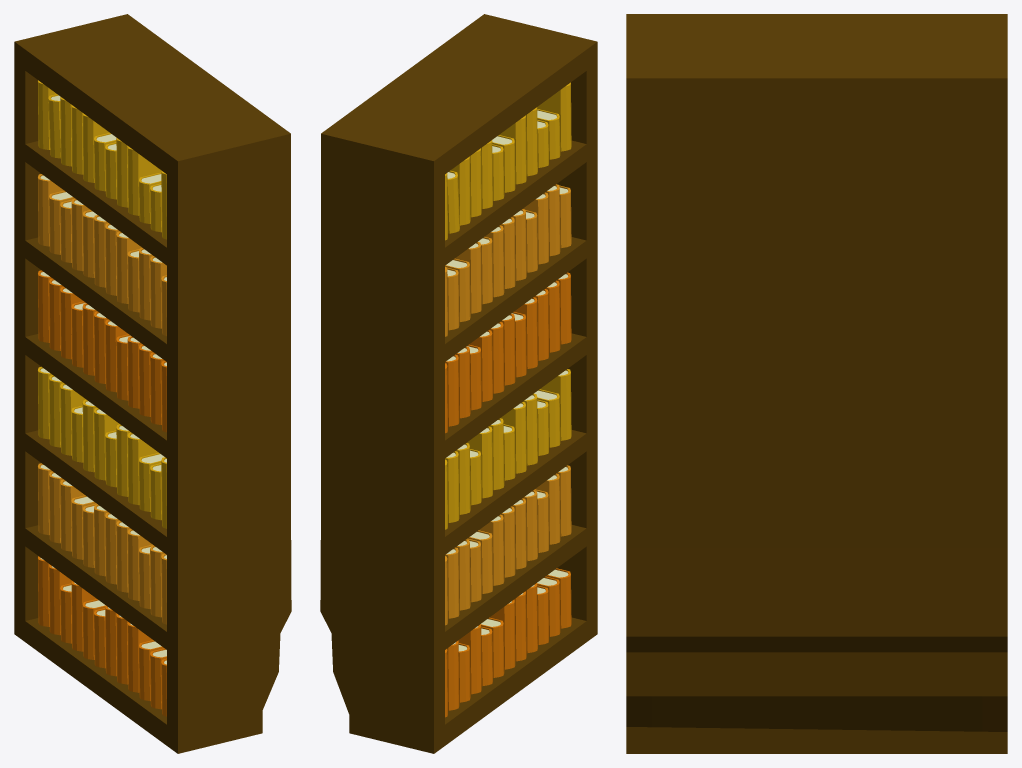
File: lowpoly_bookCase_filled.fbx
The picture shows the model from 3 angles, left to right: view 1: azimuth 30°, elevation 25°; view 2: azimuth 150°, elevation 25°; view 3: azimuth 270°, elevation 25°; orthographic projection. The views are drawn at different scales.
Parts seen in each view (by area): view 1: bookcase.003; view 2: bookcase.003; view 3: bookcase.003.
Boxes of the visible parts, x1=… form: bookcase.003: x1=14, y1=14, x2=291, y2=753; bookcase.003: x1=320, y1=14, x2=597, y2=753; bookcase.003: x1=626, y1=14, x2=1007, y2=753.
Bounding box in the file's own units: 40.13 × 200 × 100.
